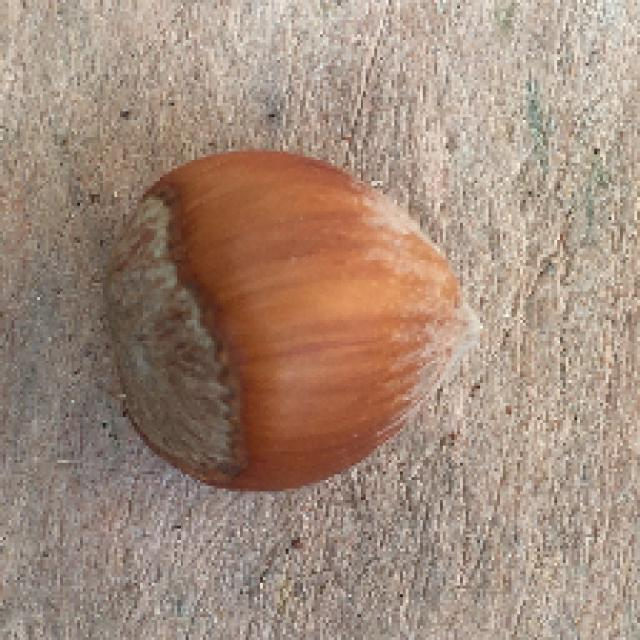qualityHazelnut: (101, 148, 461, 488)
